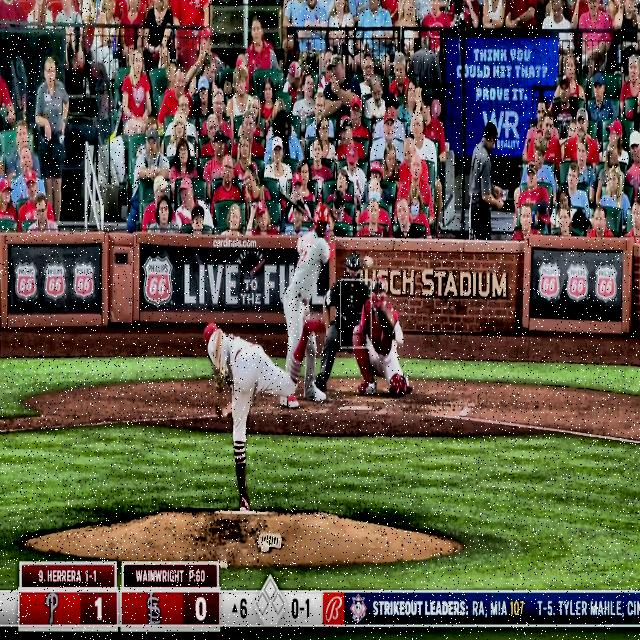baseball: (364, 254, 373, 268)
